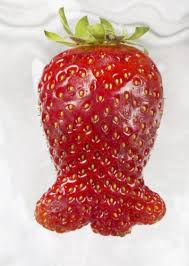Fresa: (33, 35, 169, 247)
